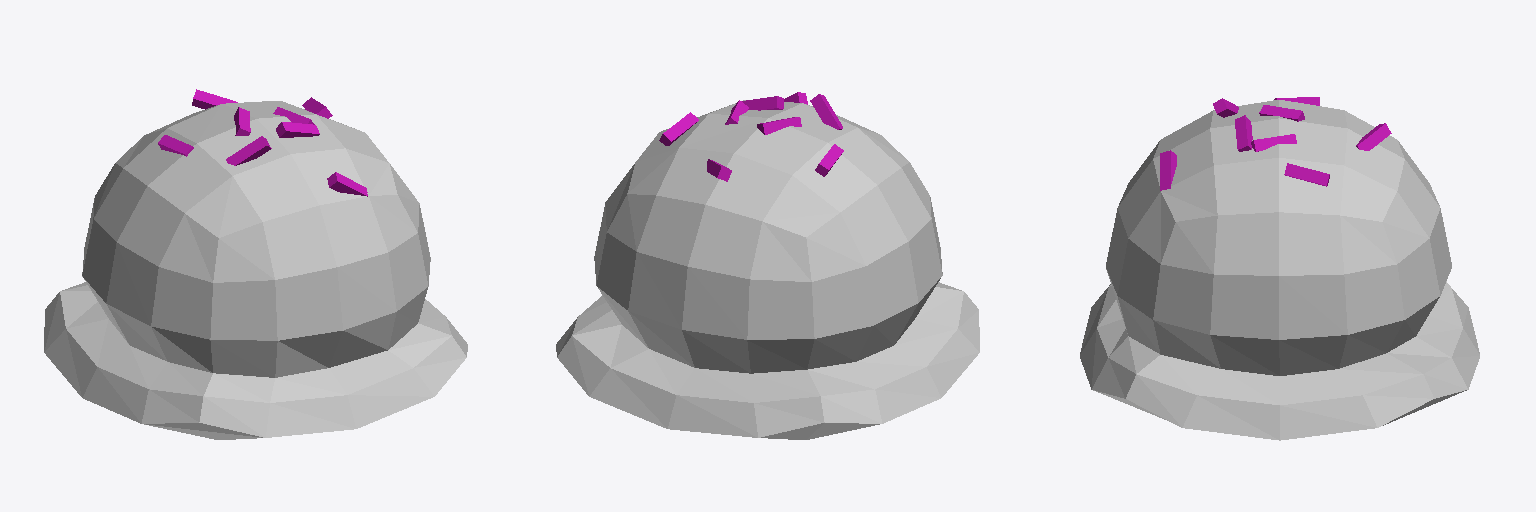
The model's file is iceCreamScoop.obj.
The picture shows the model from 3 angles: view 1: azimuth 30°, elevation 25°; view 2: azimuth 150°, elevation 25°; view 3: azimuth 270°, elevation 25°; orthographic projection.
Visible parts, largest first — view 1: Cube, Cylinder.005, Cylinder.003, Cylinder.007; view 2: Cube, Cylinder.005, Cylinder.002; view 3: Cube, Cylinder.002, Cylinder.007, Cylinder.003.
Boxes of the visible parts, x1,y1,x2,y2 form: Cube: [44, 101, 467, 439]; Cylinder.005: [226, 136, 271, 165]; Cylinder.003: [276, 122, 319, 137]; Cylinder.007: [327, 172, 367, 196]; Cube: [556, 100, 979, 439]; Cylinder.005: [810, 94, 842, 129]; Cylinder.002: [659, 112, 698, 145]; Cube: [1080, 100, 1479, 440]; Cylinder.002: [1284, 163, 1329, 186]; Cylinder.007: [1160, 150, 1176, 190]; Cylinder.003: [1235, 115, 1252, 151].
Bounding box in the file's own units: 1.76 × 1.43 × 1.76.